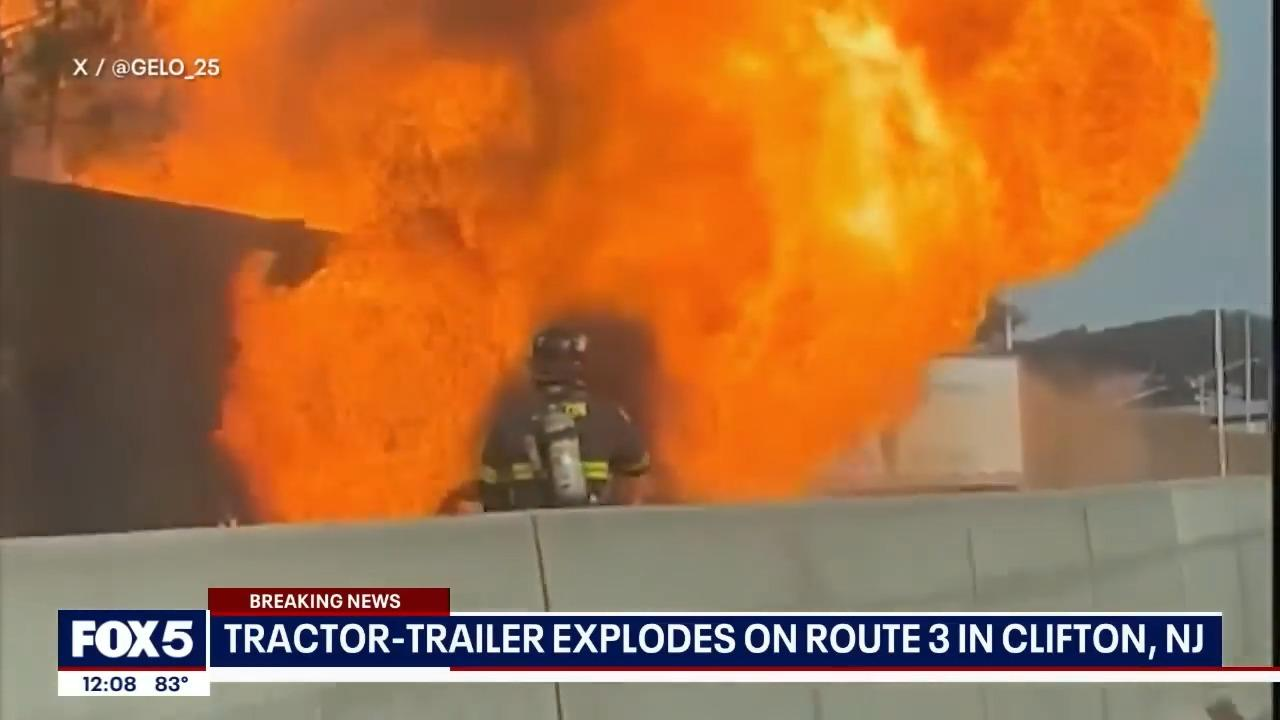fire: (487, 0, 1230, 315), (126, 0, 535, 524), (646, 312, 929, 477)
